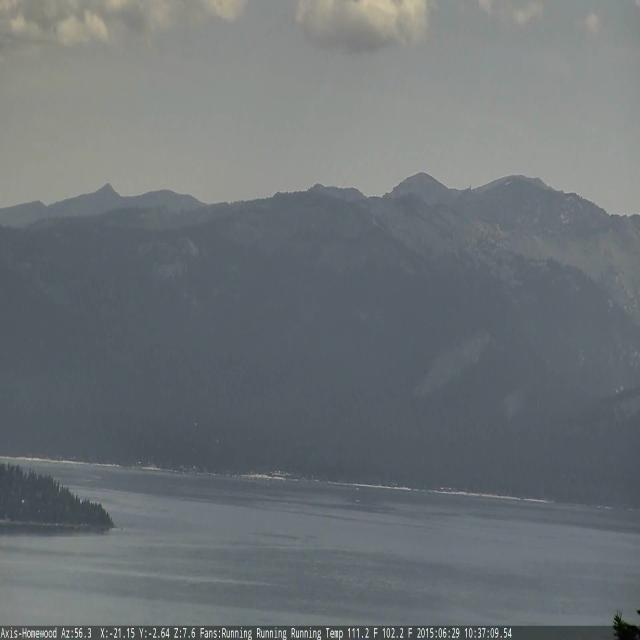smoke: (503, 391, 525, 420)
